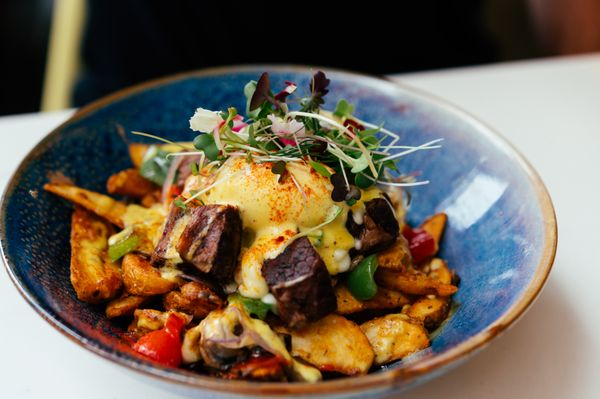sushi: (10, 65, 558, 395)
